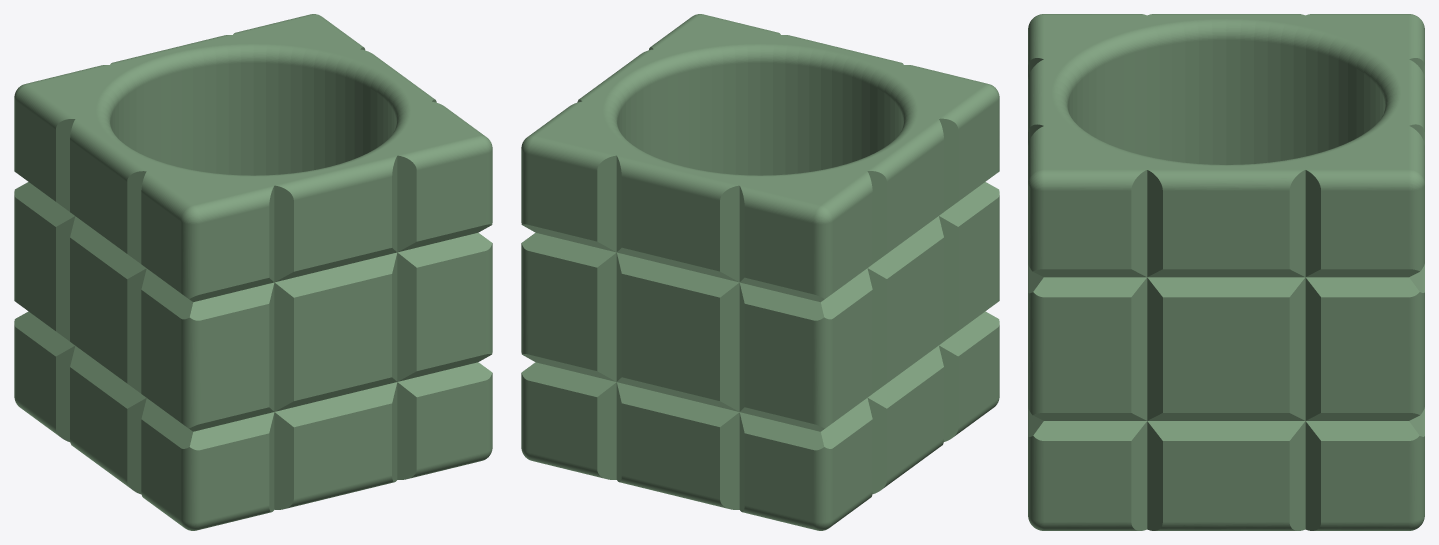
Rendered from vial1.fbx.
3 renders of one model, left to right at view 1: azimuth 30°, elevation 25°; view 2: azimuth 150°, elevation 25°; view 3: azimuth 270°, elevation 25°, orthographic. The views are drawn at different scales.
Parts seen in each view (by area): view 1: Surf0; view 2: Surf0; view 3: Surf0.
Part boxes in pixels (x1,y1,x2,y2): Surf0: (14, 14, 492, 530); Surf0: (521, 14, 999, 530); Surf0: (1028, 14, 1424, 530).
Size of the model in its own units: 0.075 by 0.075 by 0.075.
